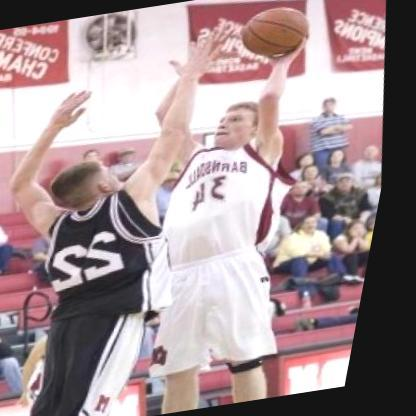basketball: (224, 0, 323, 72)
